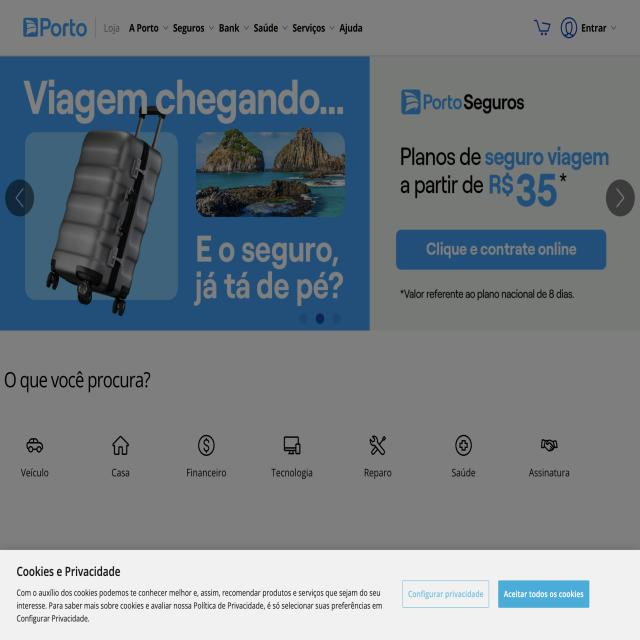Logo: (19, 8, 96, 52)
